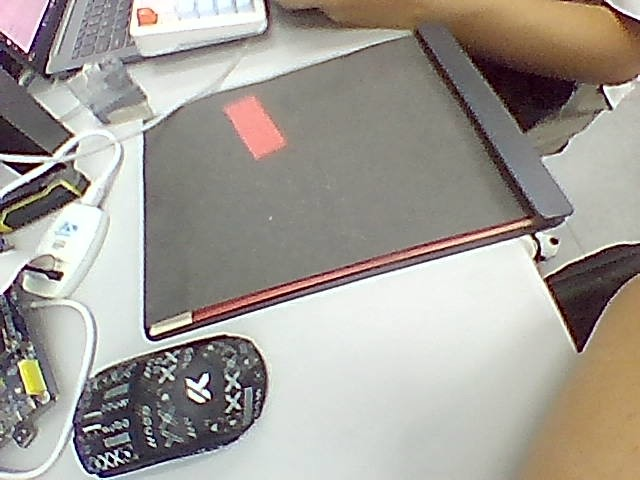card: (225, 96, 286, 159)
